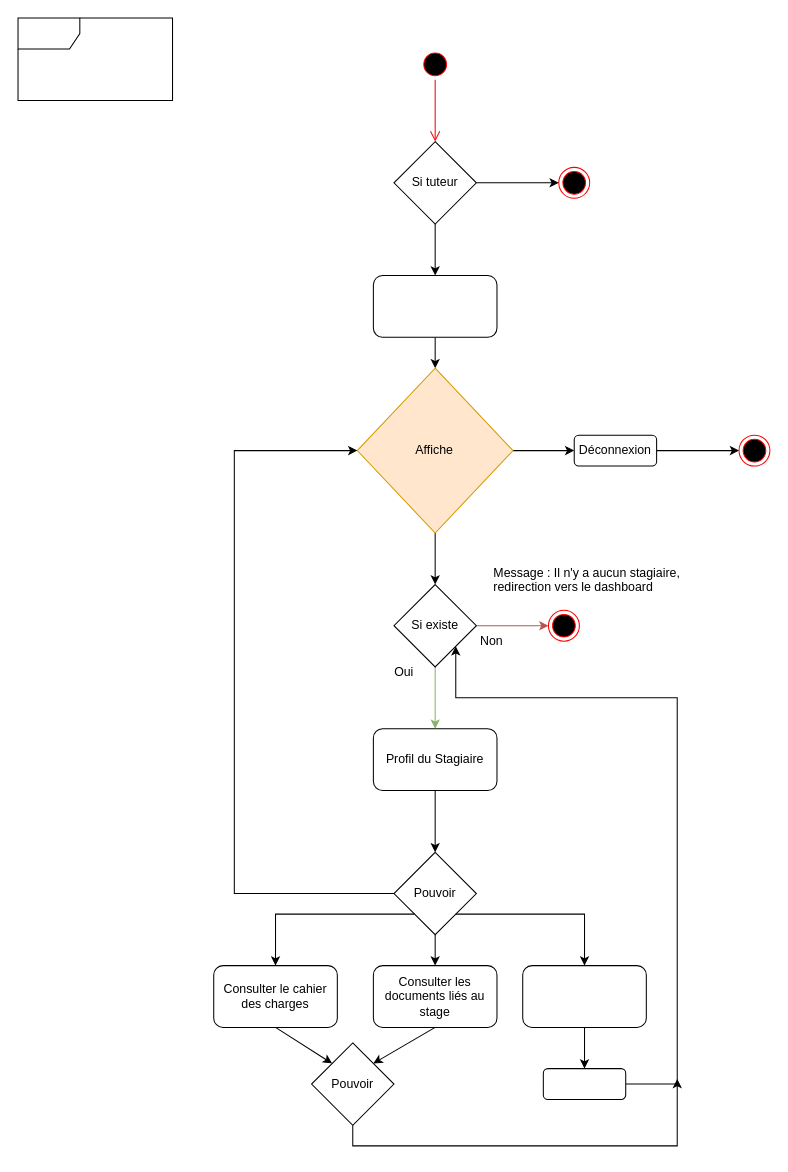
Image size: 788x1172. Some labels were removed from this diagram. The centre of each missing label's shape, as x and y in pixels:
Affiche le Dashboard Tuteur: [434,305]
Tuteur: [95,58]
Valider: [584,1084]
Valider la convention de stage: [584,996]
